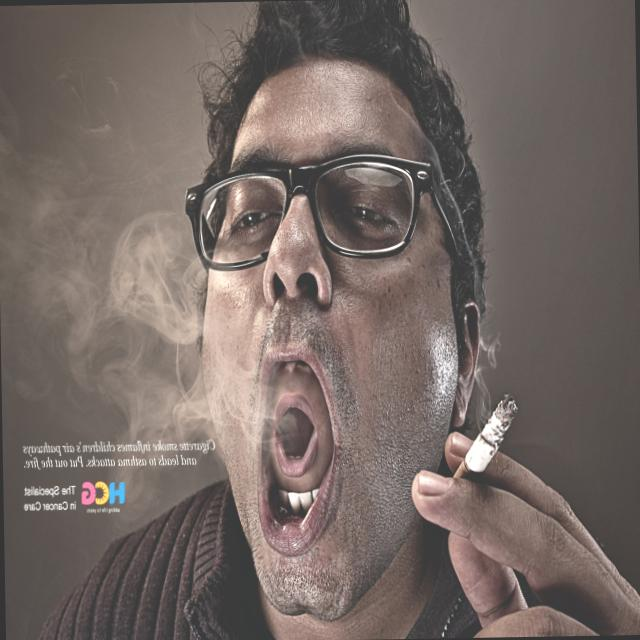smoke: (450, 385, 520, 485)
